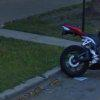Motorcycle: (50, 16, 100, 88)
